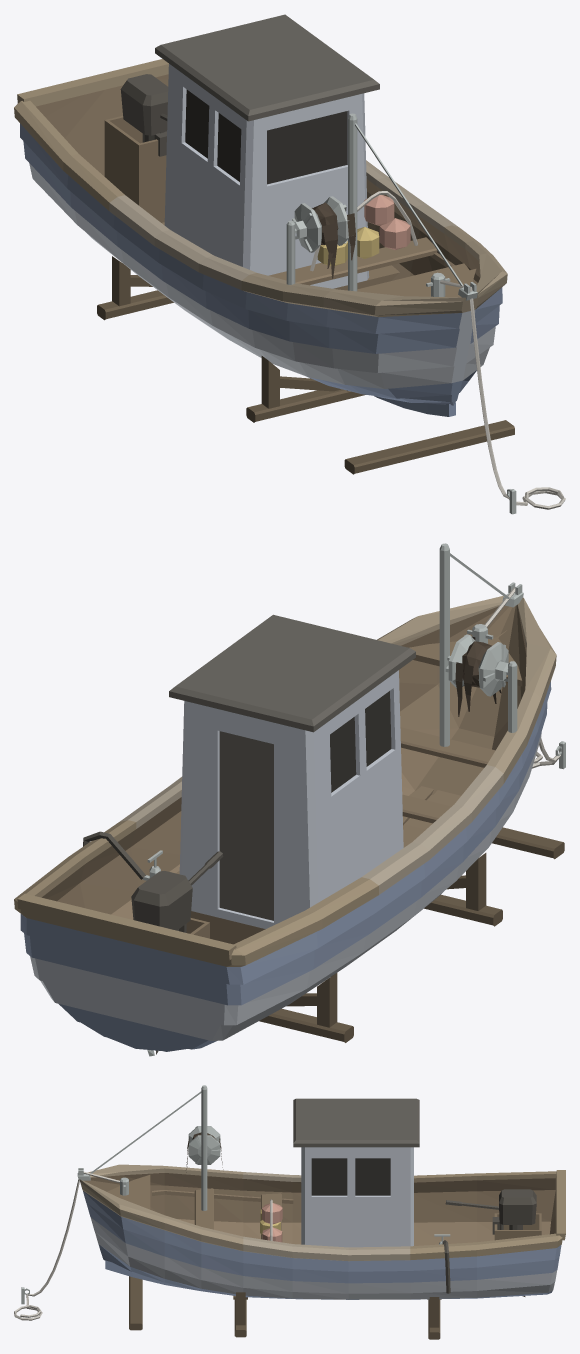
File: fishing-boat.glb
3 renders of one model, top to bottom at view 1: azimuth 30°, elevation 25°; view 2: azimuth 150°, elevation 25°; view 3: azimuth 270°, elevation 25°, orthographic. The views are drawn at different scales.
Visible parts, largest first — view 1: boat-body, hauler-weed-mesh; view 2: boat-body, hauler-weed-mesh; view 3: boat-body.
Boxes of the visible parts, bbox=[...] form: boat-body: bbox=[14, 14, 565, 514]; hauler-weed-mesh: bbox=[314, 207, 355, 278]; boat-body: bbox=[14, 543, 565, 1056]; hauler-weed-mesh: bbox=[455, 636, 501, 716]; boat-body: bbox=[14, 1085, 565, 1339].
Bounding box in the file's own units: 2.36 × 2.85 × 6.84.
